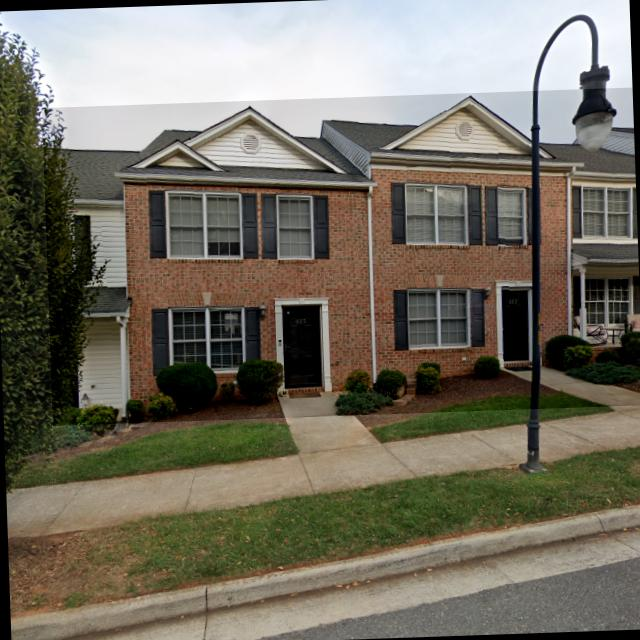House: (41, 87, 640, 425)
